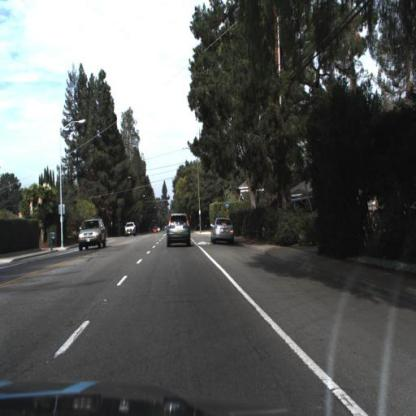car: (161, 206, 201, 260), (74, 215, 110, 257), (207, 215, 240, 246), (122, 220, 138, 241)
